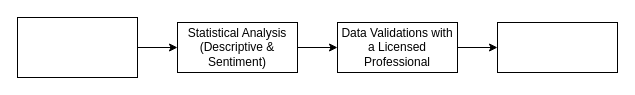
Image size: 635x95. Some labels were removed from this diagram. Here are the shapes that lost their labels. From the top down, the centre of each, then its label:
the point at 77,47: Interview / Survey to Students and Instructors/Proctors
the point at 557,47: Digital Translation of Validated Data
